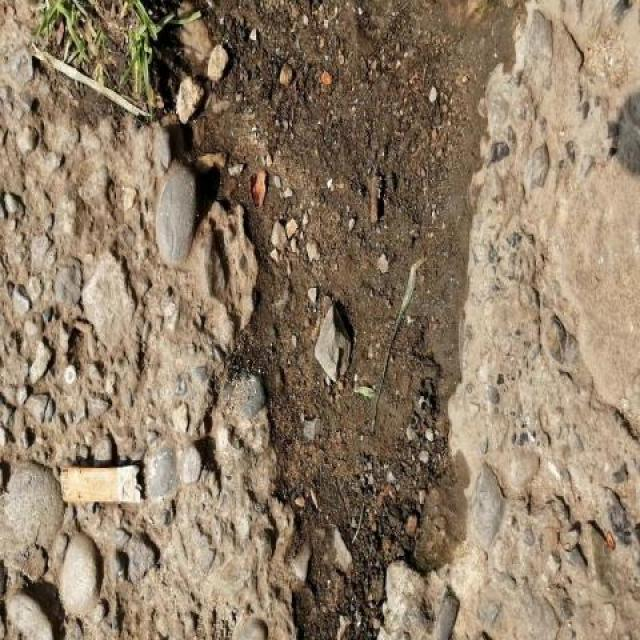non-organic waste: (58, 458, 147, 506)
